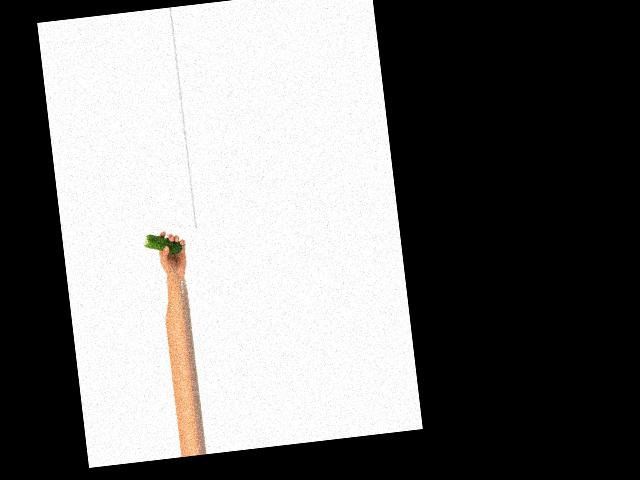cucumber: (143, 231, 183, 257)
